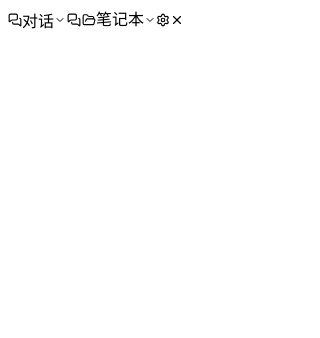
floating bar settings › hides local model configuration in packaged builds
This screenshot has width=320, height=338.
Step 1. Click the button named "打开设置" → {"x": 163, "y": 20}, box [156, 13, 170, 27]
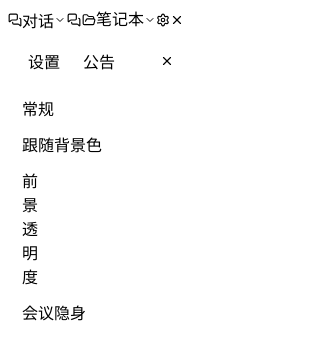
Check: the heading "常规" is shown, box [22, 101, 54, 118]
